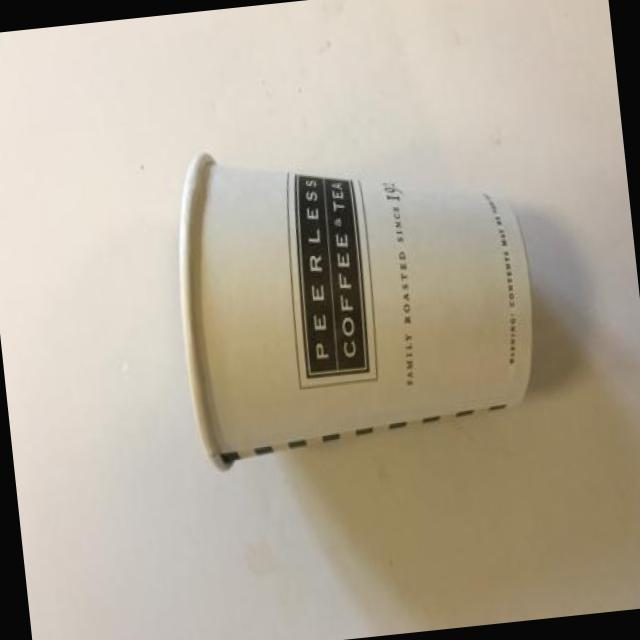Recycle: (162, 120, 550, 476)
